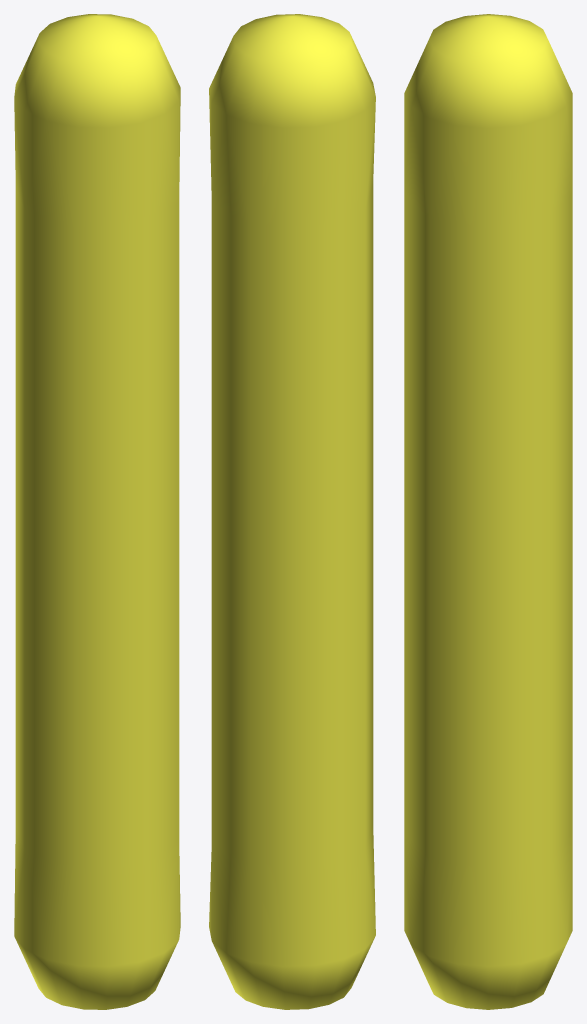
File: cubuk.obj
The picture shows the model from 3 angles, left to right: view 1: azimuth 30°, elevation 25°; view 2: azimuth 150°, elevation 25°; view 3: azimuth 270°, elevation 25°; orthographic projection.
Bounding box in the file's own units: 0.6667 × 4.33 × 0.6667.
